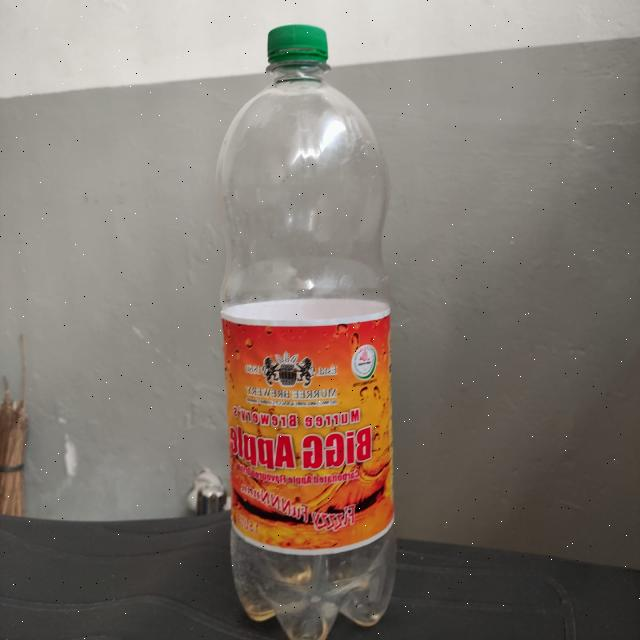bottle: (214, 20, 402, 640)
cap: (264, 22, 330, 74)
label: (218, 310, 396, 544)
